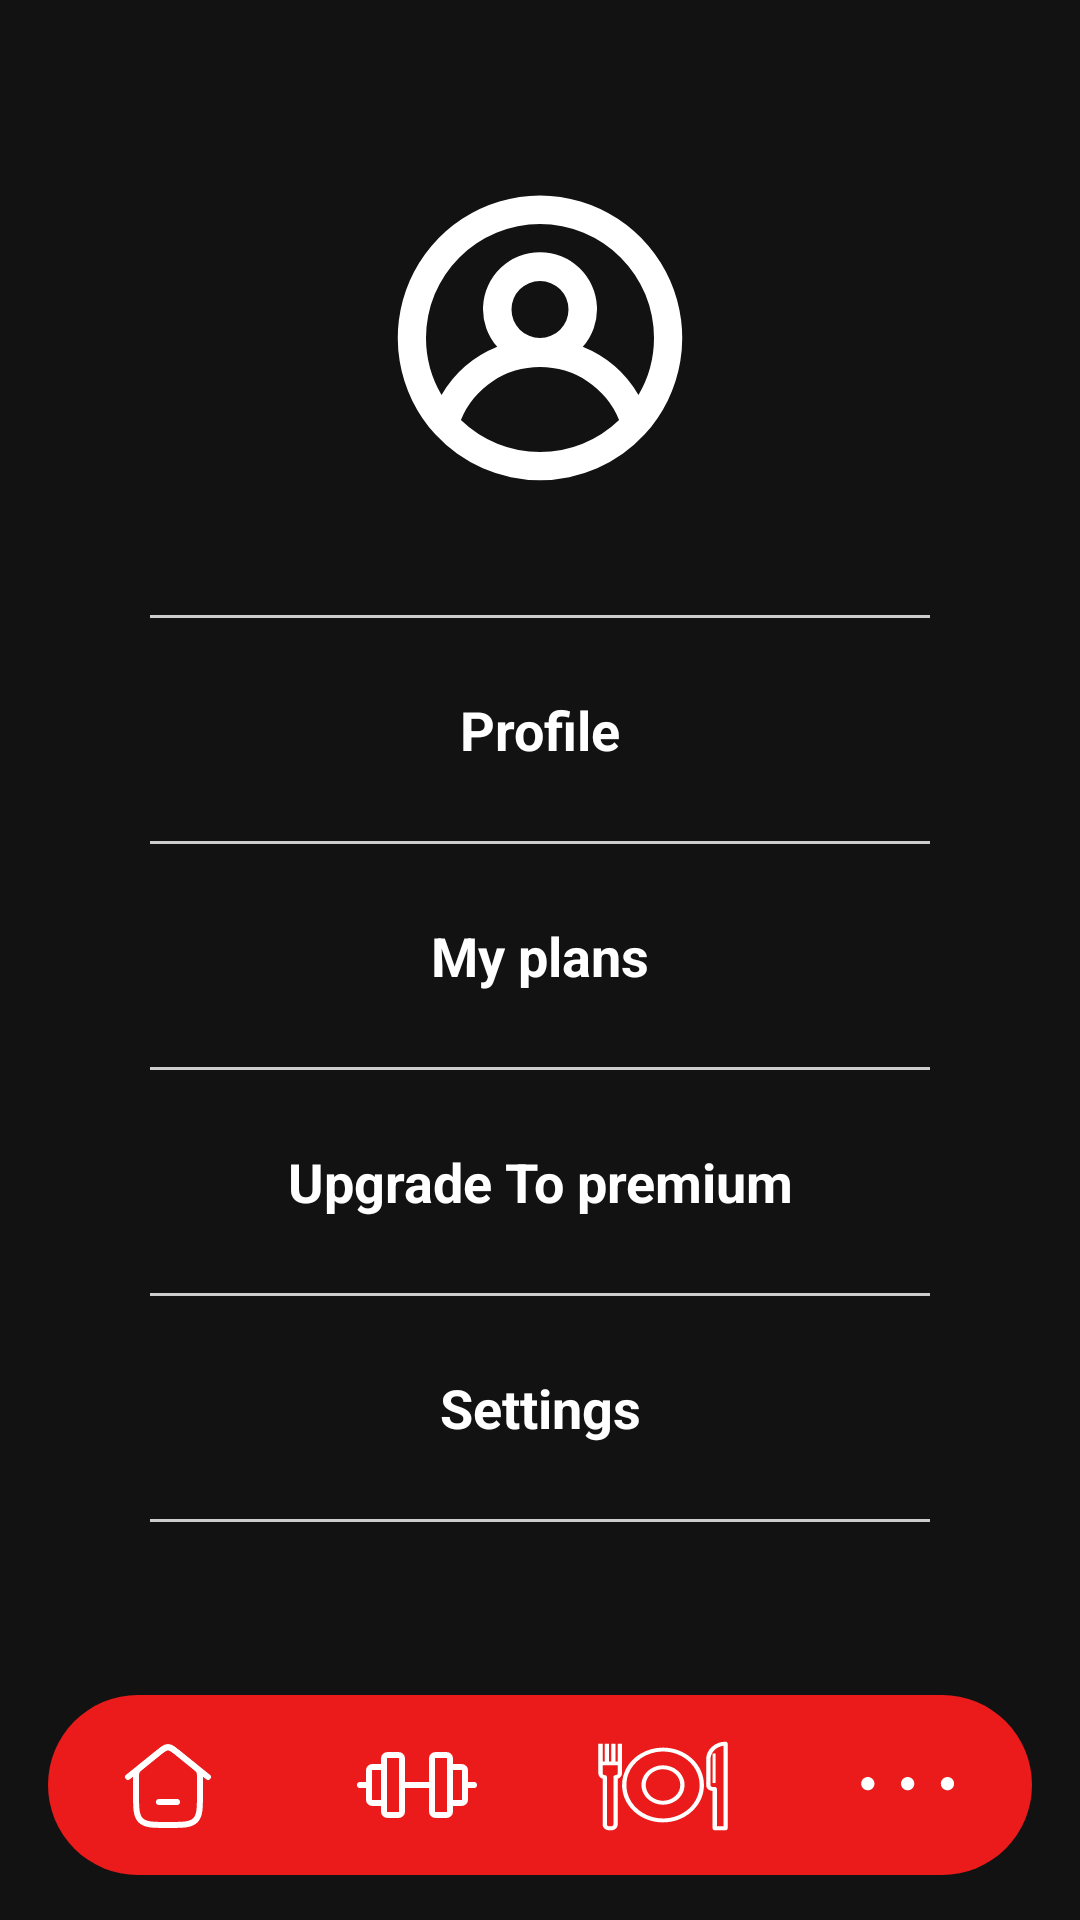

Icons on this 1080*1920 Android screen, each with the point to tap as (x,y):
fitness: (417,1785)
food: (663,1786)
Home: (168,1786)
